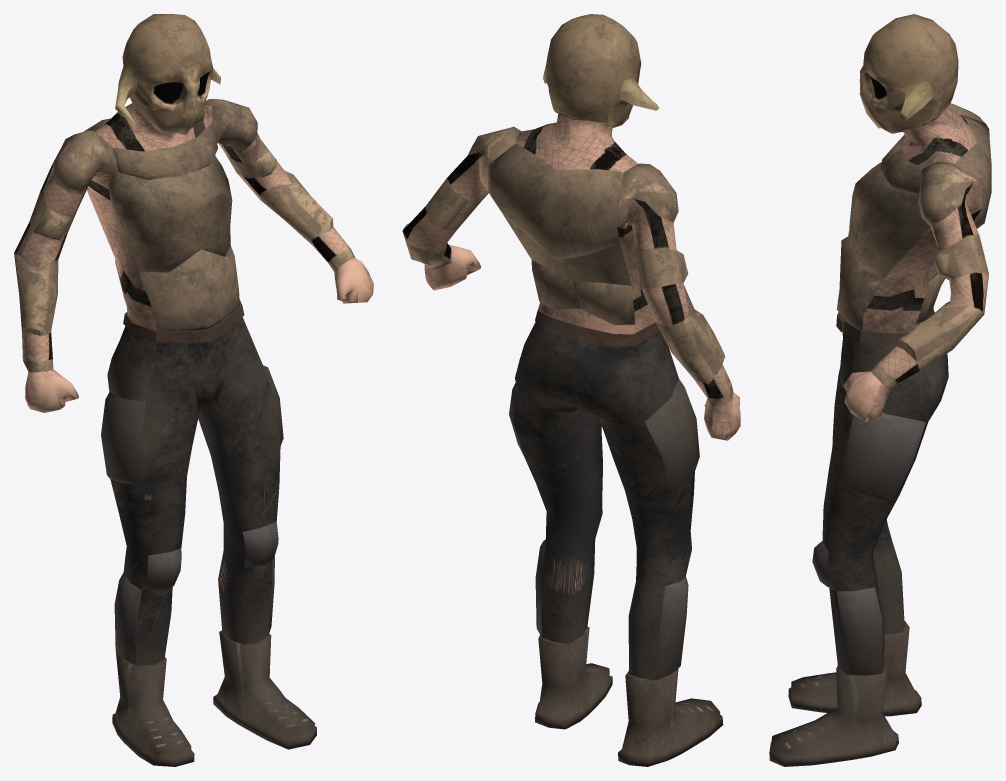
The model's file is Anim_recibirdanyo_npc1.0025.obj.
The picture shows the model from 3 angles, left to right: view 1: azimuth 30°, elevation 25°; view 2: azimuth 150°, elevation 25°; view 3: azimuth 270°, elevation 25°; orthographic projection. The views are drawn at different scales.
Parts seen in each view (by area): view 1: NPC2; view 2: NPC2; view 3: NPC2.
Boxes of the visible parts, x1=… form: NPC2: x1=14, y1=14, x2=373, y2=766; NPC2: x1=402, y1=14, x2=740, y2=766; NPC2: x1=769, y1=14, x2=991, y2=766.
Bounding box in the file's own units: 4.57 × 9.49 × 2.7.
